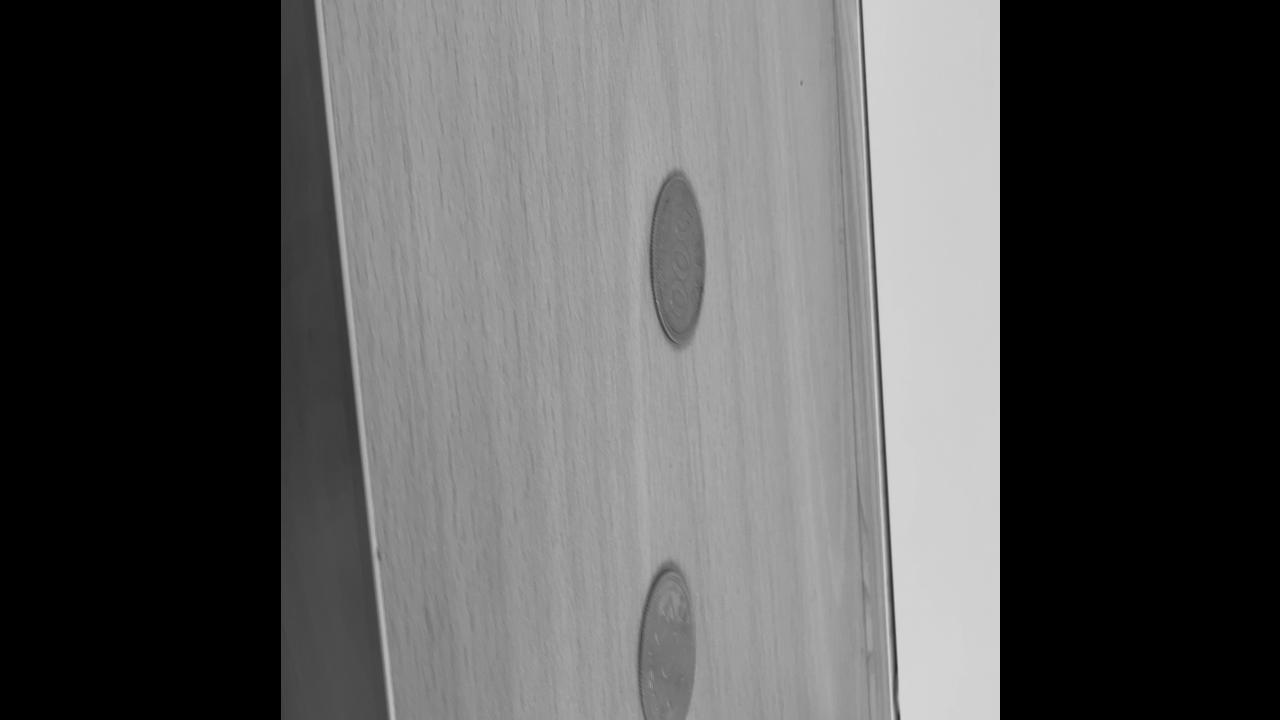coin: (648, 170, 708, 351), (635, 562, 697, 720)
